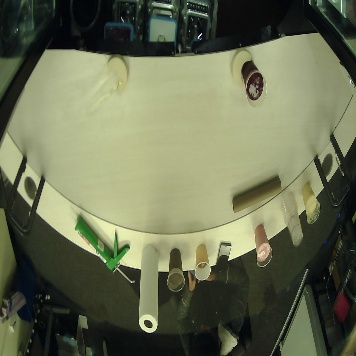coffee_cup: (193, 241, 213, 281)
empty_cup: (275, 187, 308, 250)
full_cup: (239, 58, 272, 110), (249, 216, 274, 271), (300, 176, 322, 225), (164, 244, 186, 293)
puck: (103, 56, 134, 93), (232, 49, 256, 86)
